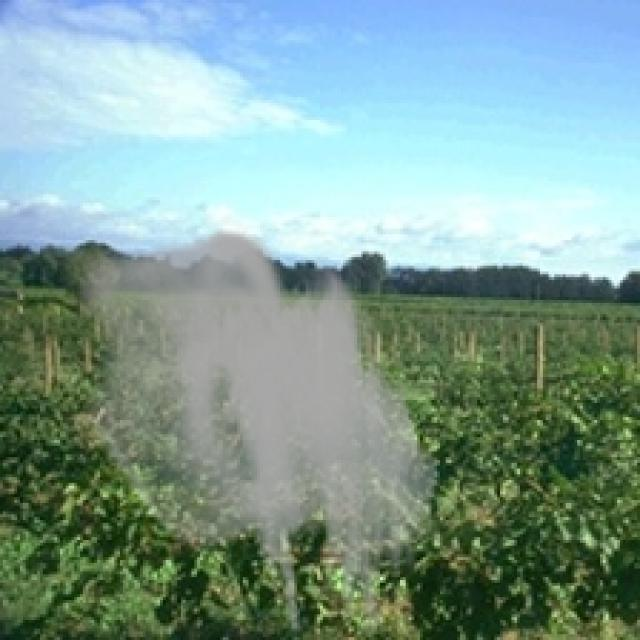smoke: (77, 229, 443, 634)
